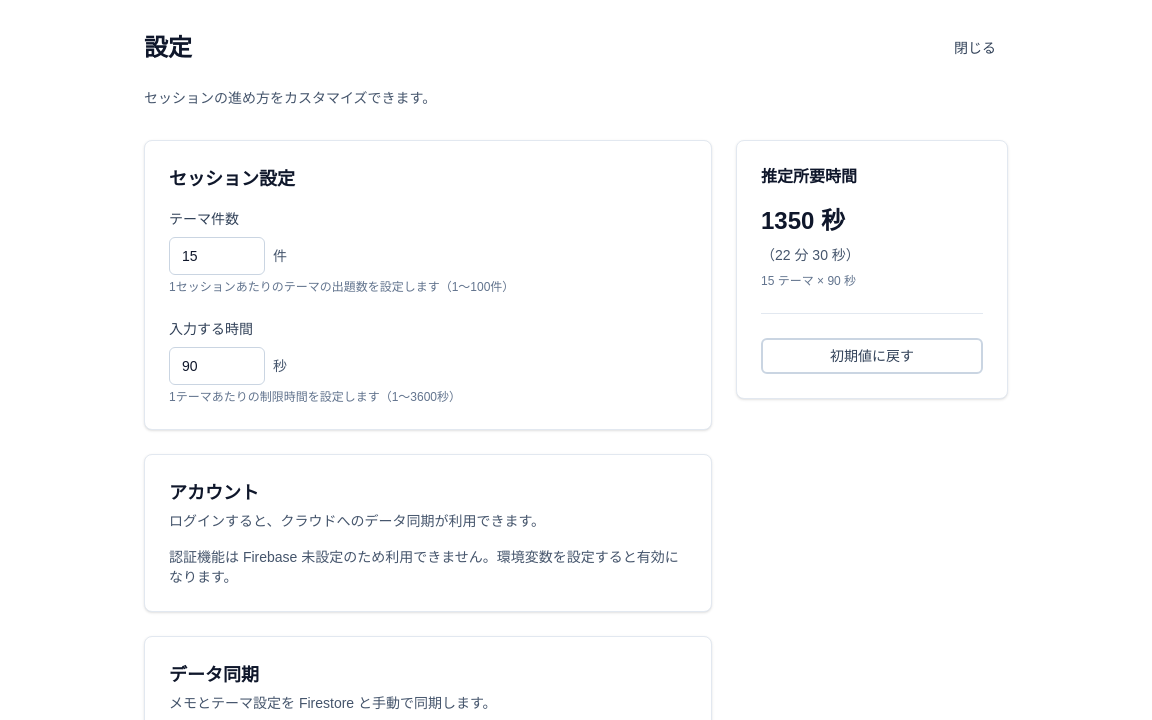
Test: SettingPage › reset to default › displays error when resetSettings fails
Click the button "初期値に戻す": {"x": 872, "y": 356} [761,338,983,374]
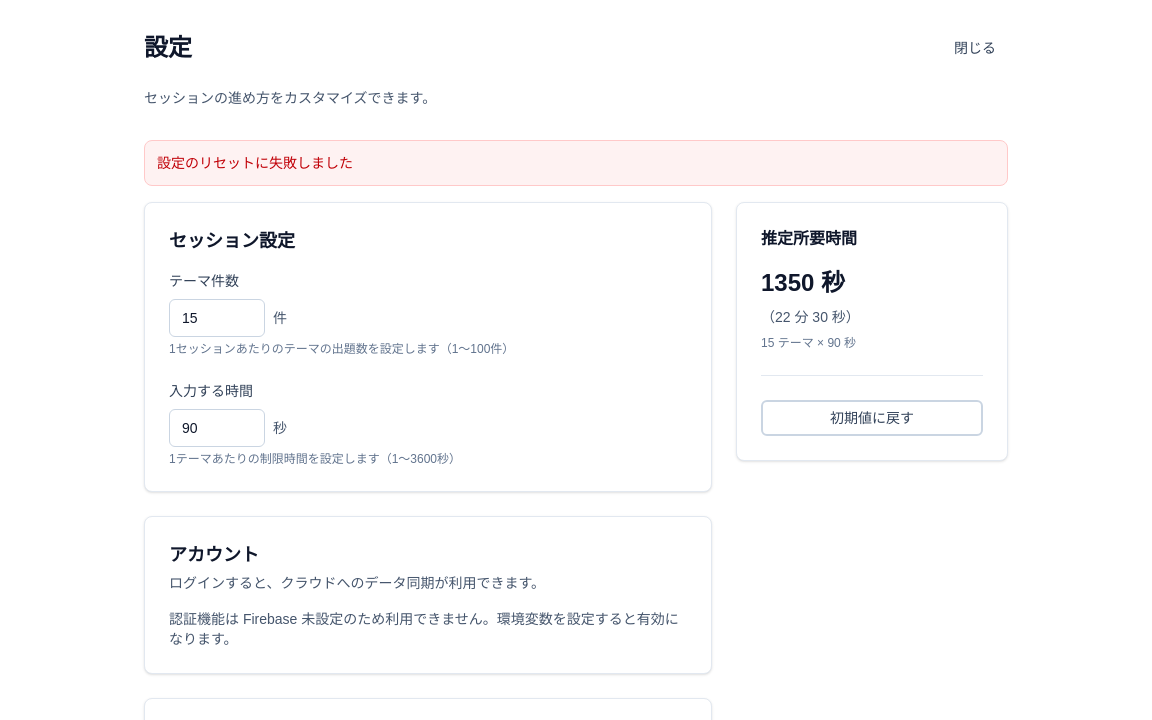
Check: the text "設定のリセットに失敗しました" is shown, box [157,155,353,171]
